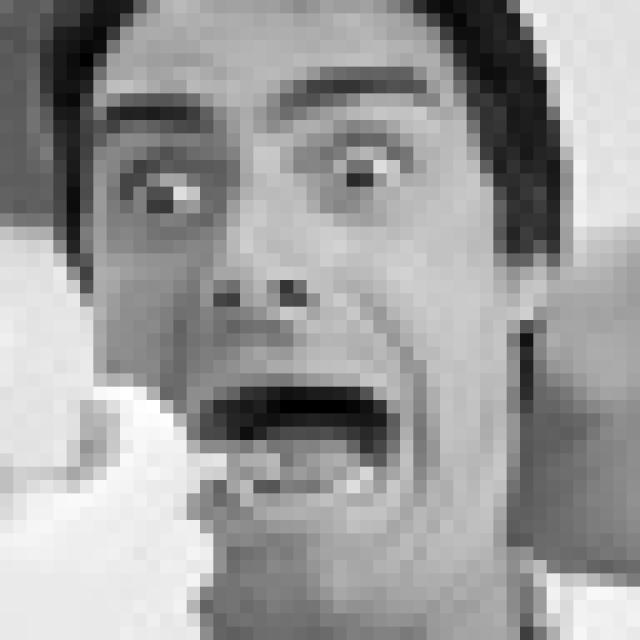fear: (92, 56, 449, 542)
